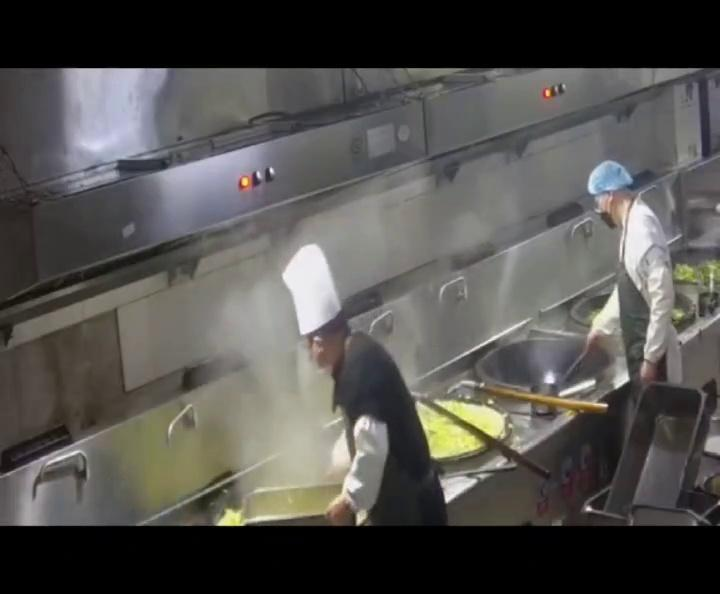gloves: (585, 158, 635, 198)
